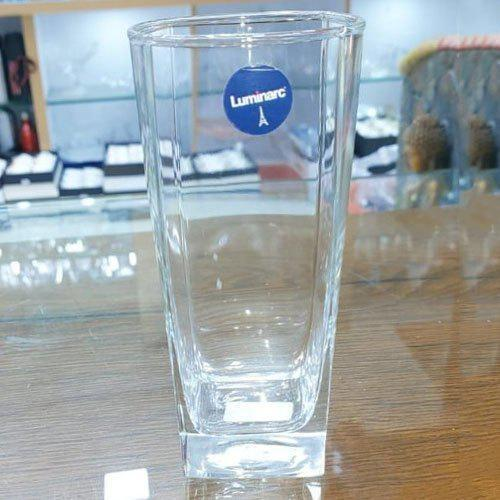glass-normal: (126, 10, 370, 478)
